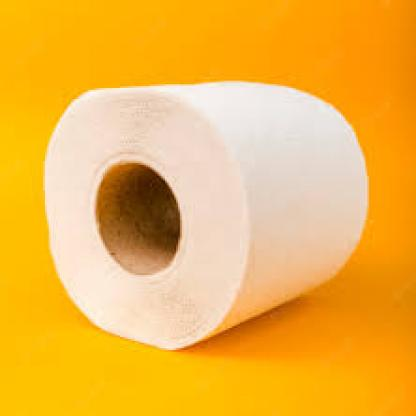tissue: (46, 85, 373, 348)
